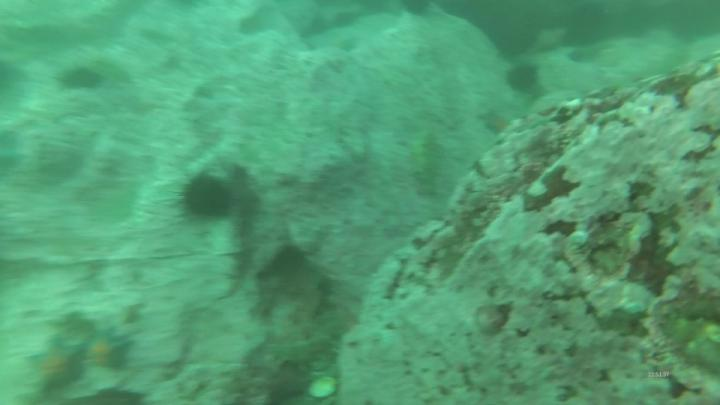echinus: (188, 177, 233, 217), (58, 69, 100, 89), (508, 64, 538, 91)
holothurian: (263, 335, 335, 368), (413, 126, 441, 195)
starfish: (28, 346, 83, 384), (89, 330, 131, 370), (478, 109, 507, 130)
